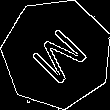M_SE: (22, 20, 91, 88)
